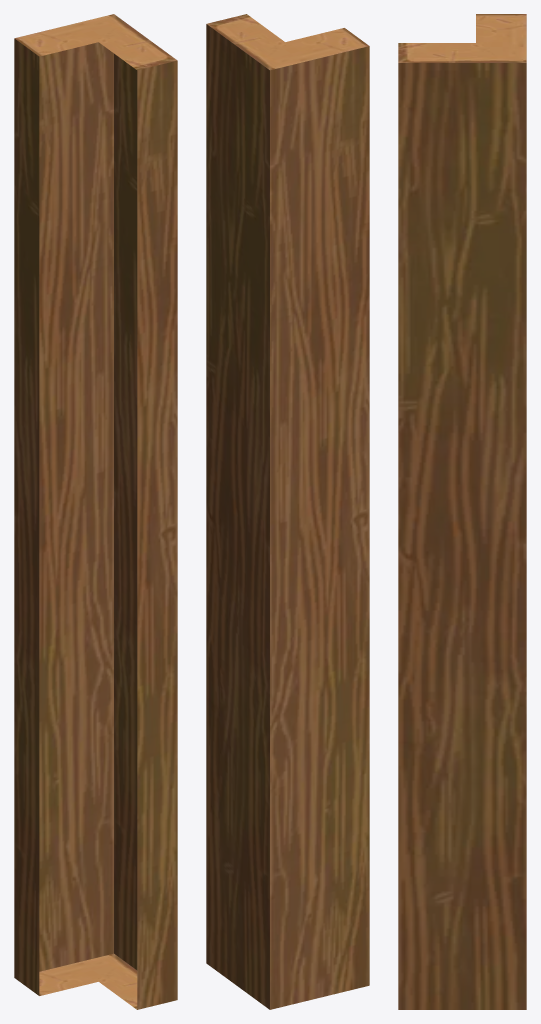
File: corner_interior_big.glb
The picture shows the model from 3 angles, left to right: view 1: azimuth 30°, elevation 25°; view 2: azimuth 210°, elevation 25°; view 3: azimuth 270°, elevation 25°; orthographic projection.
Size of the model in its own units: 0.3331 by 3 by 0.3681.
Materials: 1 (1 with a texture image).
